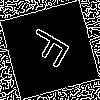F: (25, 25, 80, 75)
